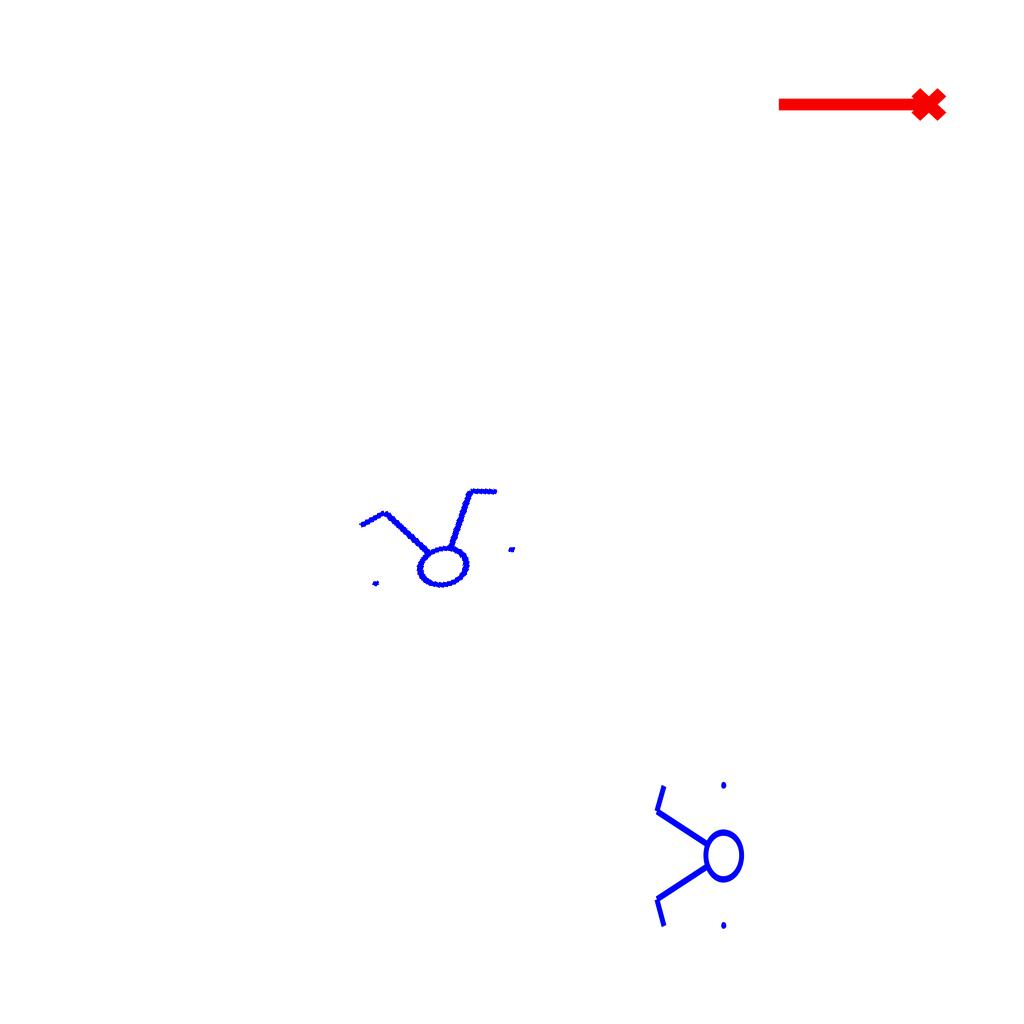ASR_Ansaugoeffnung: (773, 84, 949, 130)
Serienschalter: (342, 475, 530, 609), (650, 773, 746, 941)
